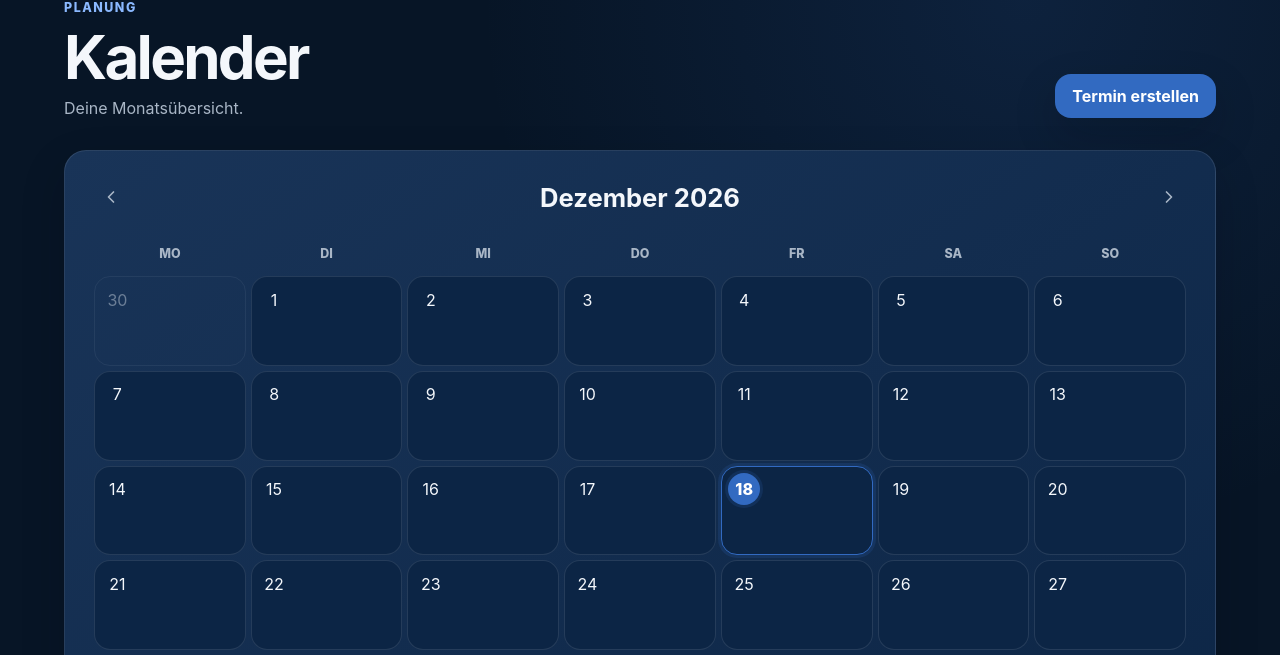
CalendarPage › navigates across a year boundary without changing today
Expected: the heading "Dezember 2026" is shown, [540,182,740,213]
Click the button named "Nächster Monat" at (1169, 197), box [1147,175,1191,219]
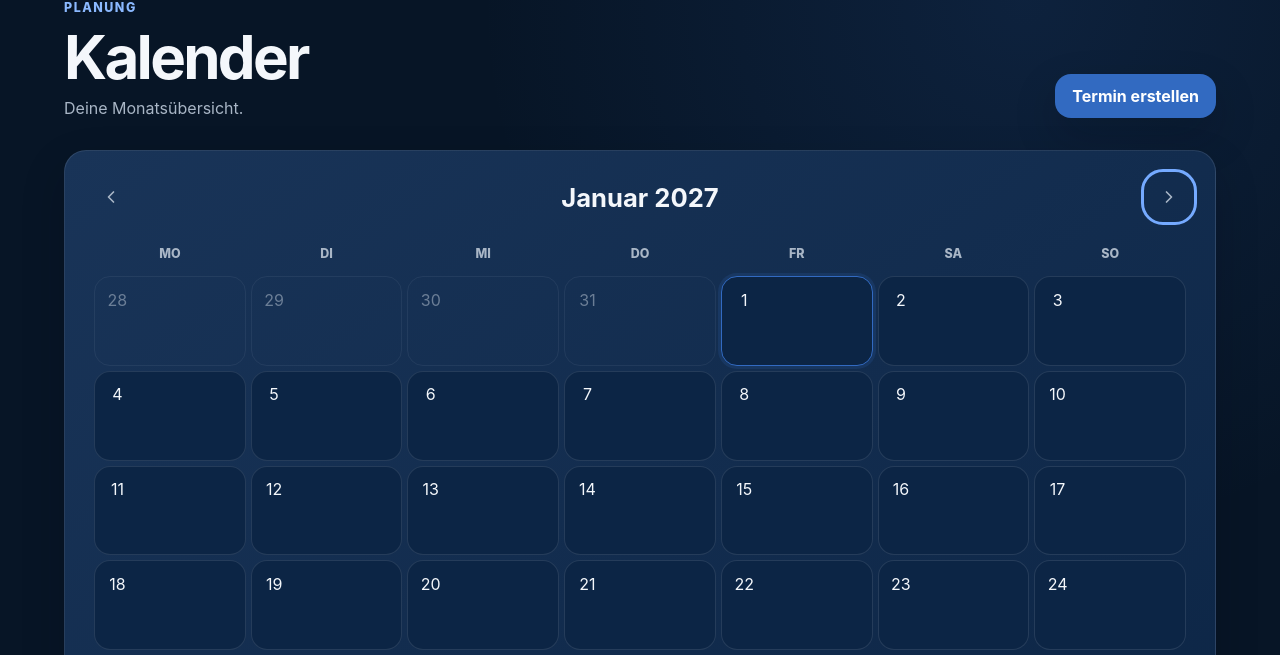
Result: the heading "Januar 2027" is shown at [561,182,719,213]
Click the button named "Vorheriger Monat" at (111, 197), box [89,175,133,219]
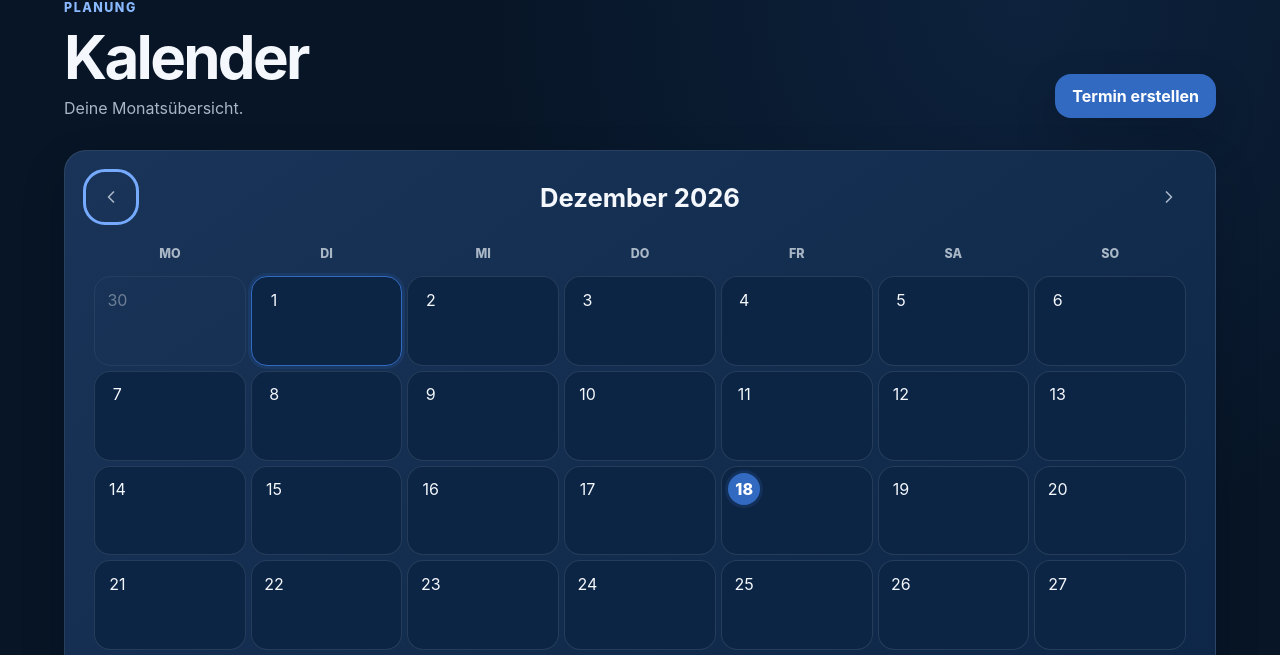
Result: the text "18" is shown at [728,473,760,505]
